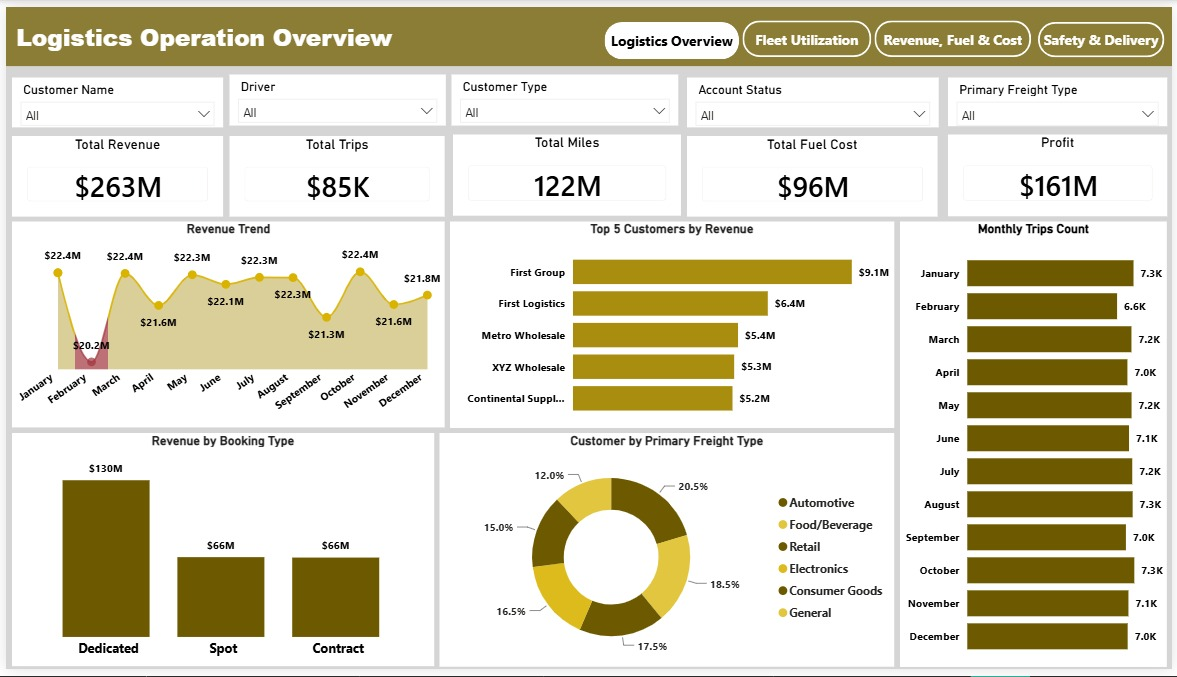

What the dashboard file says about the page in this screenshot:
{"tool":"powerbi","page":{"name":"Logistics Overview ","canvas":[1341,762],"ordinal":0},"visuals":[{"type":"shape","box":[0,0,1378,68.3],"z":0},{"type":"cardVisual","title":"Total Revenue","fields":{"Data":["Sum(Loads.revenue)"]},"box":[7.1,147.6,242.9,92.9],"z":1000},{"type":"cardVisual","title":"Total Trips","fields":{"Data":["CountNonNull(Trips.trip_id)"]},"box":[257.1,147.6,247.6,92.9],"z":2000},{"type":"cardVisual","title":"Total Miles","fields":{"Data":["Sum(Trips.actual_distance_miles)"]},"box":[513.3,146.7,262.2,93.3],"z":3000},{"type":"cardVisual","title":"Total Fuel Cost","fields":{"Data":["Sum(Fuel Purchases.total_cost)"]},"box":[783.3,147.6,288.1,92.9],"z":4000},{"type":"barChart","title":"Top 5 Customers by Revenue","fields":{"Category":["Customers.customer_name"],"Y":["Loads.Total Revenue"]},"box":[510.4,245.8,510.4,237.5],"z":5000},{"type":"clusteredBarChart","title":"Monthly Trips Count","fields":{"Category":["Loads.load_date.Variation.Date Hierarchy.Month"],"Y":["CountNonNull(Trips.trip_id)"]},"box":[1027.6,246.6,306.9,512.1],"z":6000},{"type":"lineChart","title":"Revenue Trend","fields":{"Category":["Loads.load_date.Variation.Date Hierarchy.Month"],"Y":["Sum(Loads.revenue)"]},"box":[7.3,246.3,497.6,236.6],"z":7000},{"type":"cardVisual","title":"Profit","fields":{"Data":["Loads.Profit"]},"box":[1083.3,145.8,252.1,93.8],"z":8000},{"type":"slicer","fields":{"Values":["Customers.customer_name"]},"box":[7.1,81,242.9,57.1],"z":9000},{"type":"slicer","fields":{"Values":["Drivers.first_name"]},"box":[256.1,78,248.8,58.5],"z":10000},{"type":"donutChart","title":"Customer by Primary Freight Type","fields":{"Category":["Customers.primary_freight_type"],"Y":["CountNonNull(Customers.customer_id)"]},"box":[497.9,489.6,522.9,268.8],"z":11000},{"type":"slicer","fields":{"Values":["Customers.customer_type"]},"box":[512.2,78,261,58.5],"z":12000},{"type":"slicer","fields":{"Values":["Customers.account_status"]},"box":[783,80.9,289.4,57.4],"z":13000},{"type":"slicer","fields":{"Values":["Customers.primary_freight_type"]},"box":[1083.3,81.2,252.1,56.2],"z":14000},{"type":"columnChart","title":"Revenue by Booking Type","fields":{"Category":["Loads.booking_type"],"Y":["Loads.Total Revenue"]},"box":[6.4,489.4,485.1,268.1],"z":15000},{"type":"actionButton","box":[688.1,16.7,154.8,42.9],"z":16000},{"type":"actionButton","box":[846,16,148,42],"z":17000},{"type":"actionButton","box":[998,16,180,42],"z":18000},{"type":"actionButton","box":[1185.7,16.7,145.2,40.5],"z":19000},{"type":"textbox","box":[7.3,9.8,448.8,61],"z":20000}]}

Visuals, with their boxes in screenshot pixels (x1, y1, x2, y2), scaled from the page's 1341x762 canvas onto the 1177x677 screenshot:
shape: bbox=(0, 0, 1176, 61)
"Total Revenue" cardVisual: bbox=(6, 131, 219, 214)
"Total Trips" cardVisual: bbox=(226, 131, 443, 214)
"Total Miles" cardVisual: bbox=(451, 130, 681, 213)
"Total Fuel Cost" cardVisual: bbox=(688, 131, 940, 214)
"Top 5 Customers by Revenue" barChart: bbox=(448, 218, 896, 429)
"Monthly Trips Count" clusteredBarChart: bbox=(902, 219, 1171, 674)
"Revenue Trend" lineChart: bbox=(6, 219, 443, 429)
"Profit" cardVisual: bbox=(951, 130, 1172, 213)
slicer - Customers.customer_name: bbox=(6, 72, 219, 123)
slicer - Drivers.first_name: bbox=(225, 69, 443, 121)
"Customer by Primary Freight Type" donutChart: bbox=(437, 435, 896, 674)
slicer - Customers.customer_type: bbox=(450, 69, 679, 121)
slicer - Customers.account_status: bbox=(687, 72, 941, 123)
slicer - Customers.primary_freight_type: bbox=(951, 72, 1172, 122)
"Revenue by Booking Type" columnChart: bbox=(6, 435, 431, 673)
actionButton: bbox=(604, 15, 740, 53)
actionButton: bbox=(743, 14, 872, 52)
actionButton: bbox=(876, 14, 1034, 52)
actionButton: bbox=(1041, 15, 1168, 51)
textbox: bbox=(6, 9, 400, 63)
